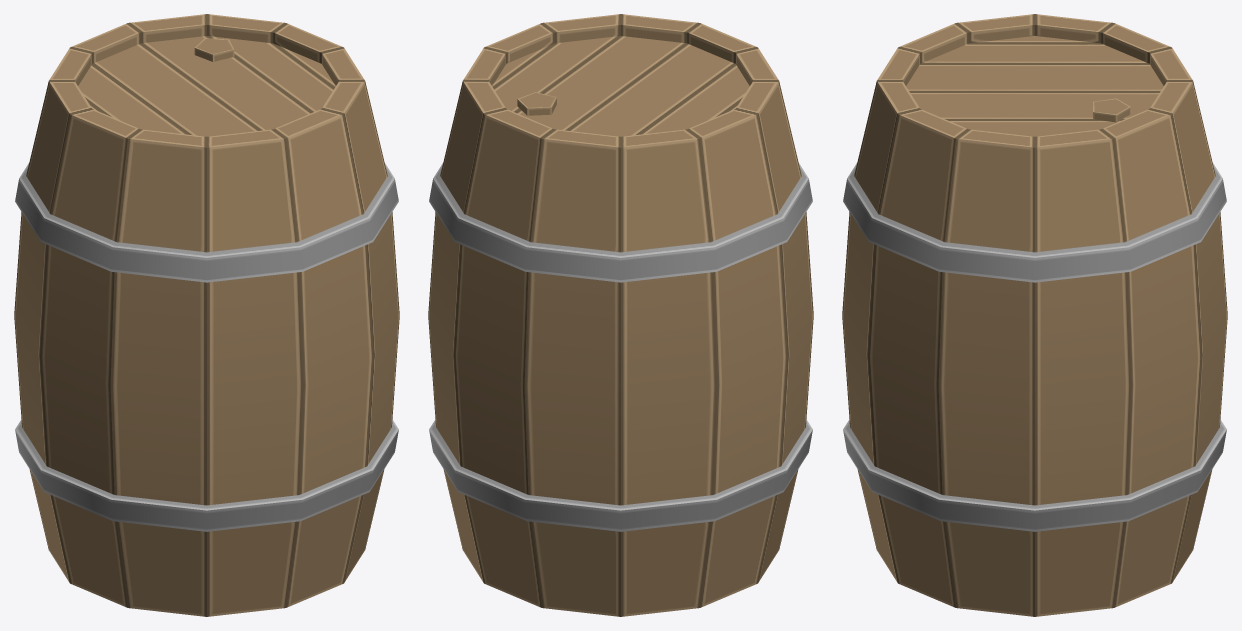
Rendered from Barrel.fbx.
3 views of the same model, side by side, from view 1: azimuth 30°, elevation 25°; view 2: azimuth 150°, elevation 25°; view 3: azimuth 270°, elevation 25° (orthographic).
Visible parts, largest first — view 1: Barrel; view 2: Barrel; view 3: Barrel.
Part boxes in pixels (left/top/right/bottom): Barrel: left=14, top=14, right=399, bottom=616; Barrel: left=428, top=14, right=813, bottom=616; Barrel: left=842, top=14, right=1227, bottom=616.
Size of the model in its own units: 67.03 by 90 by 67.03.
